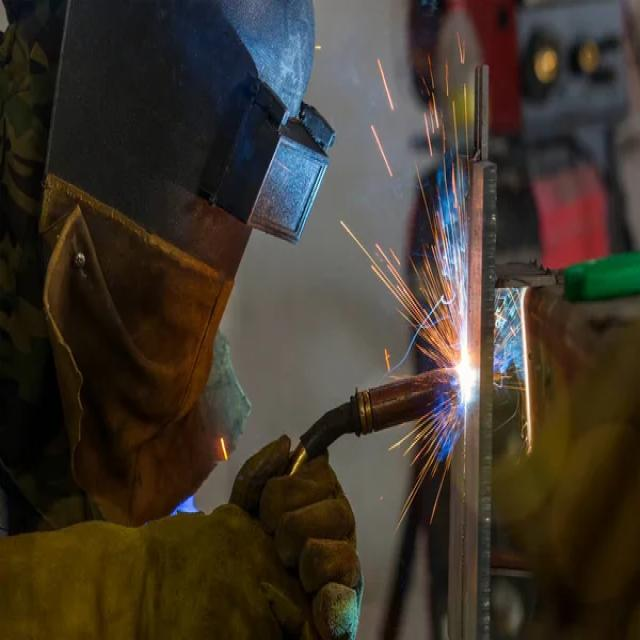welding: (454, 351, 476, 405)
